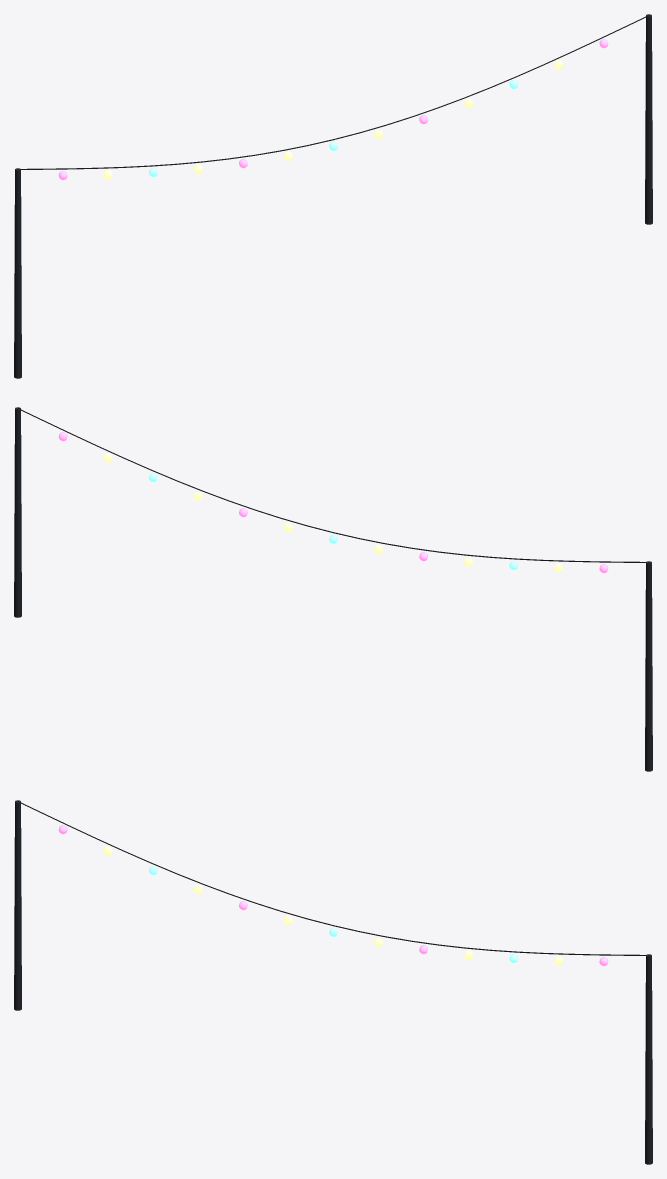
Rendered from string-lights.glb.
The picture shows the model from 3 angles, top to bottom: view 1: azimuth 30°, elevation 25°; view 2: azimuth 150°, elevation 25°; view 3: azimuth 330°, elevation 25°; orthographic projection.
Parts seen in each view (by area): view 1: lights pole, lights cable; view 2: lights pole, lights cable; view 3: lights pole, lights cable.
Boxes of the visible parts, box(x1,y1,x2,y2) form: lights pole: box(14, 14, 652, 378); lights cable: box(18, 15, 648, 169); lights pole: box(14, 407, 652, 771); lights cable: box(18, 408, 648, 562); lights pole: box(14, 800, 652, 1164); lights cable: box(18, 801, 648, 955).
Bounding box in the file's own units: 14.16 × 4.41 × 0.18.
